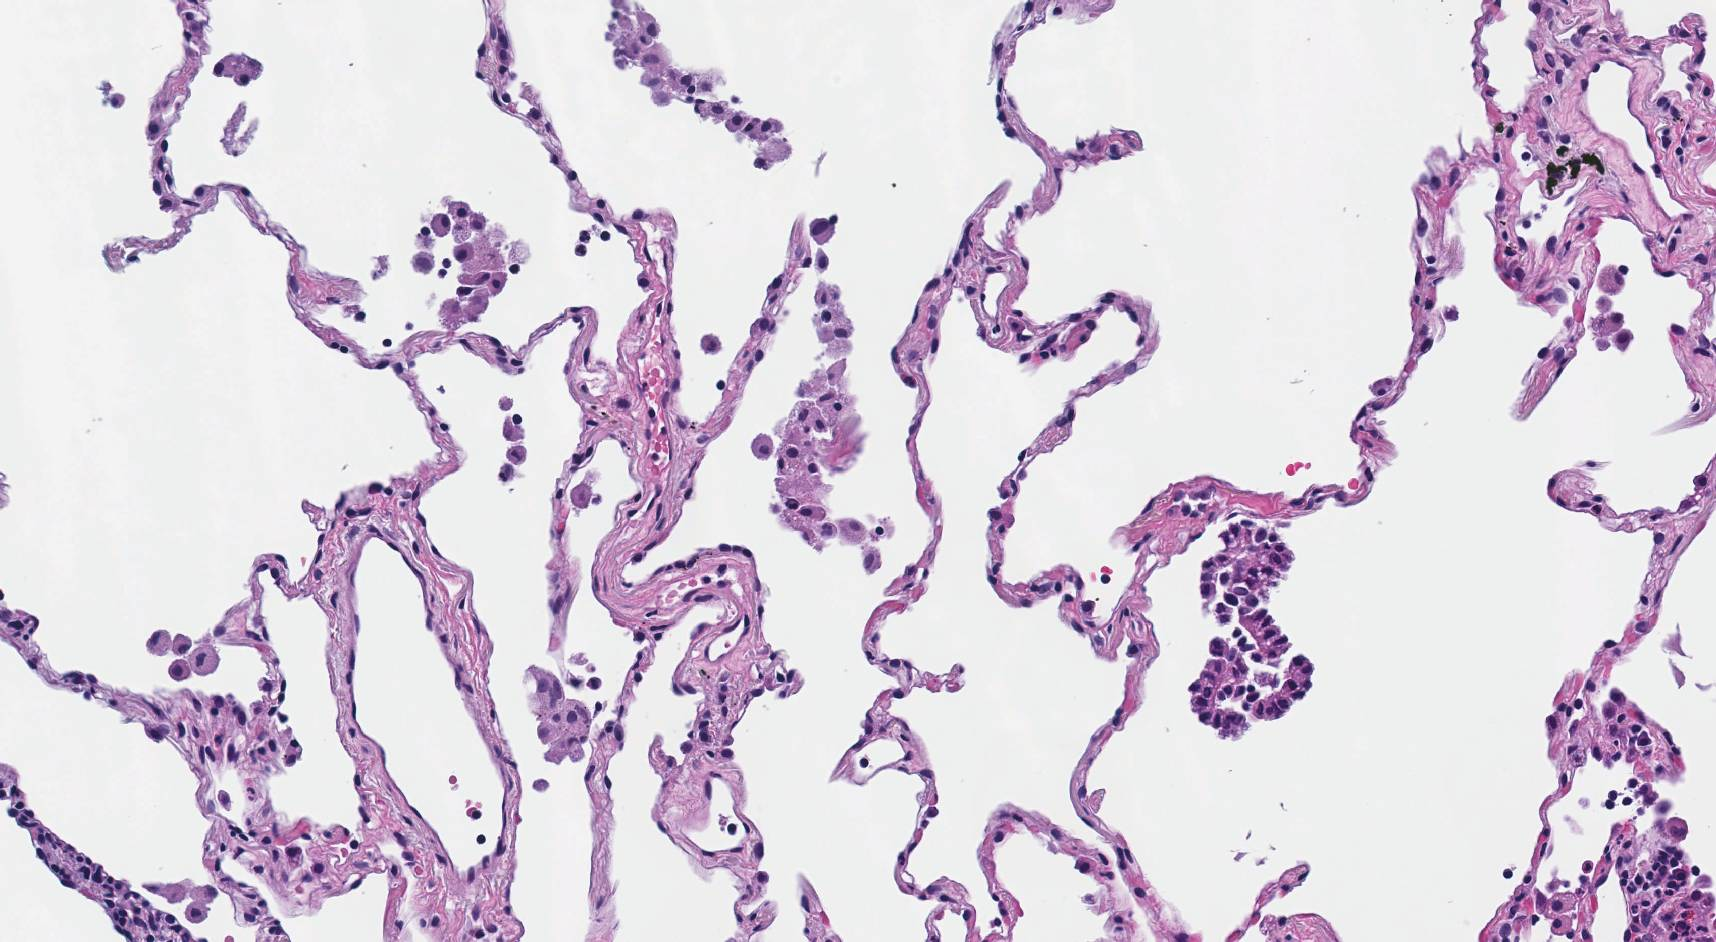stas: (1187, 521, 1317, 736)
